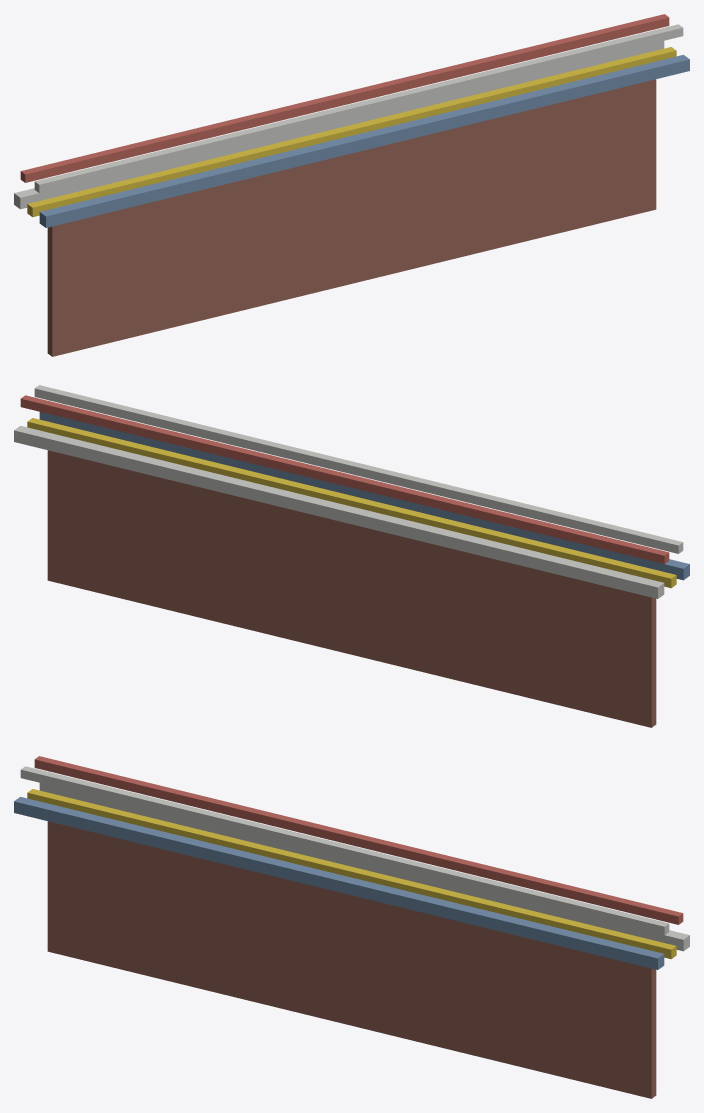
The model's file is ew-pipe-rack.works-v1.lod2.glb.
The picture shows the model from 3 angles, top to bottom: view 1: azimuth 30°, elevation 25°; view 2: azimuth 150°, elevation 25°; view 3: azimuth 330°, elevation 25°; orthographic projection.
Visible parts, largest first — view 1: ew-pipe-rack; view 2: ew-pipe-rack; view 3: ew-pipe-rack.
Part boxes in pixels (box(x1,y1,x2,y2)): ew-pipe-rack: box(14, 14, 689, 356); ew-pipe-rack: box(14, 385, 689, 727); ew-pipe-rack: box(14, 756, 689, 1098).
Bounding box in the file's own units: 32 × 8.65 × 2.75.
